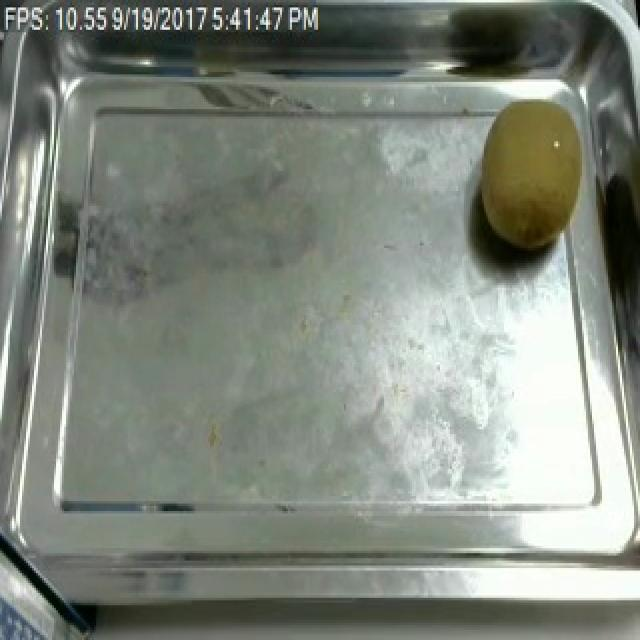Fruit: (470, 90, 608, 266)
